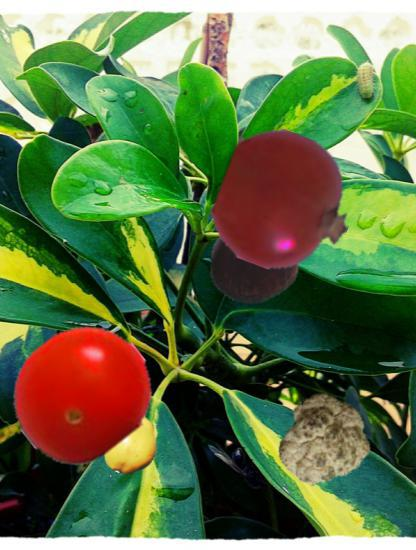Cauliflower: (275, 393, 370, 488)
Chestnut: (209, 213, 302, 306)
Quince: (101, 413, 164, 476)
Redcurrant: (216, 134, 354, 272)
Tomato: (11, 323, 153, 465)
